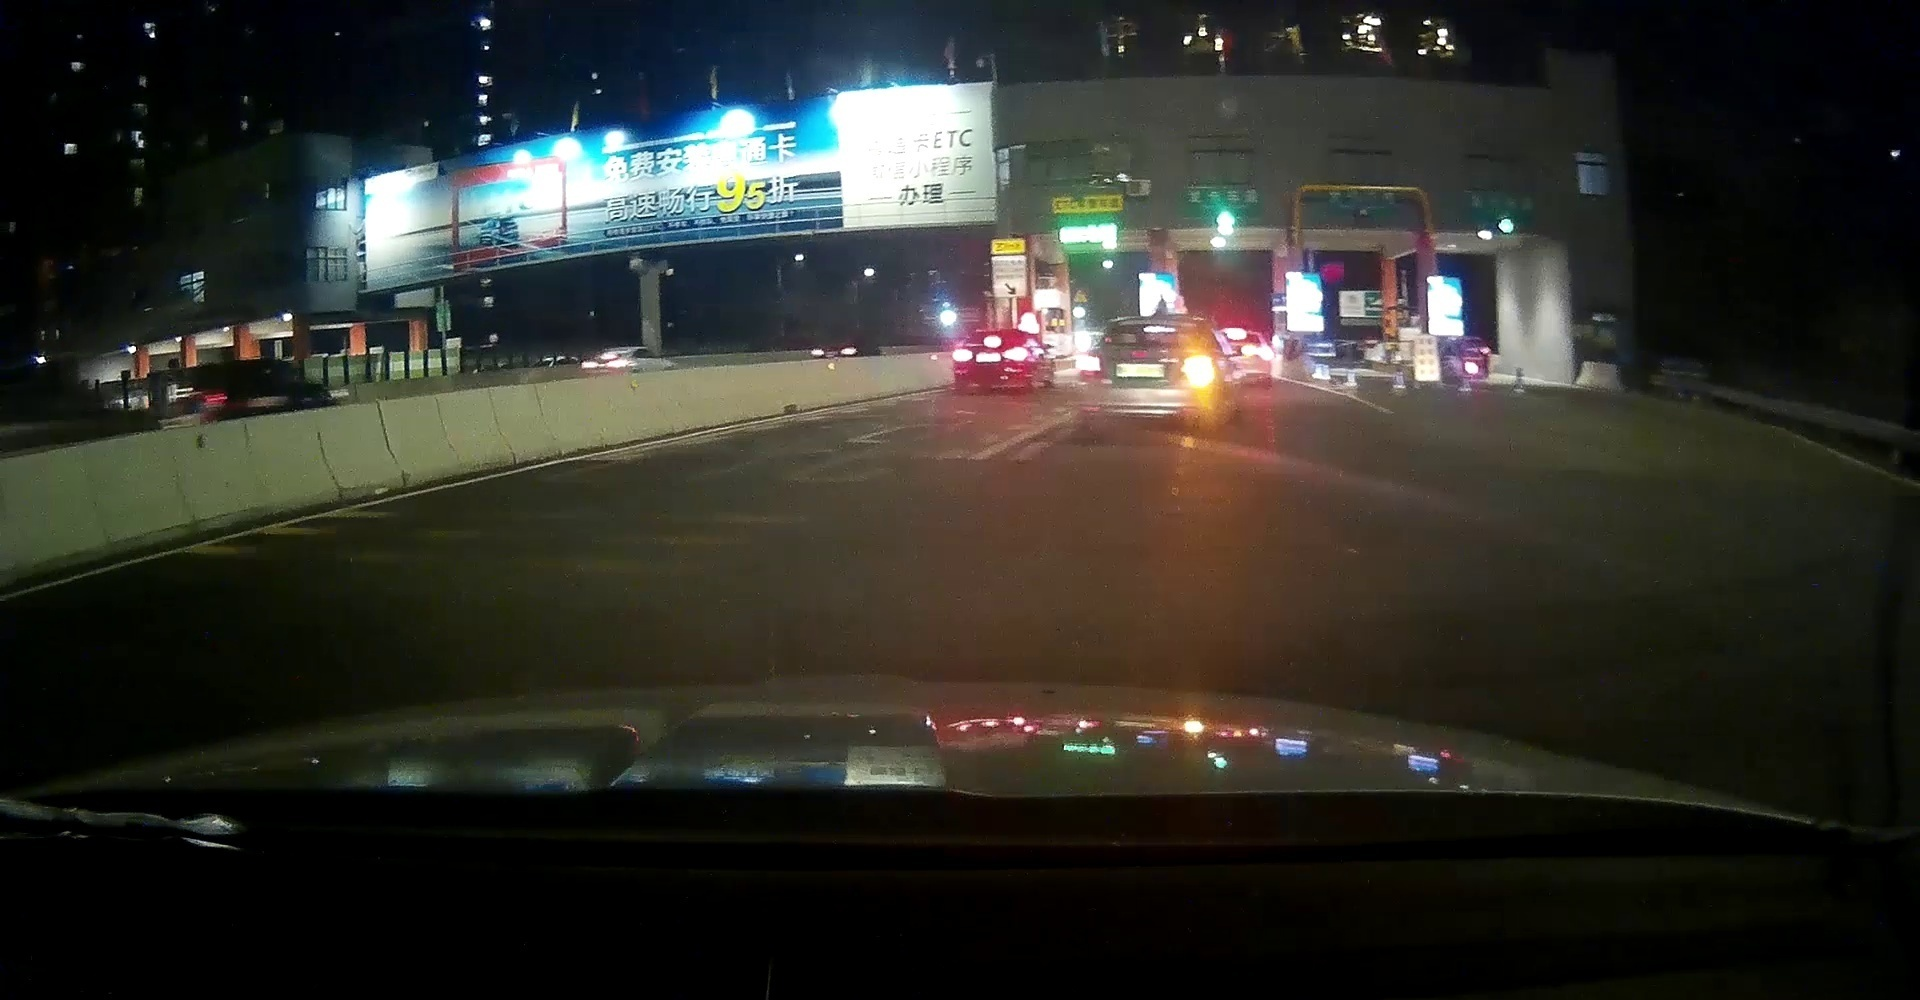L_light: (1079, 354, 1106, 379), (952, 352, 971, 360)
R_light: (1183, 355, 1211, 379), (1006, 349, 1026, 360)
T_light: (1142, 322, 1168, 329), (983, 341, 1002, 346)
night-brake: (952, 329, 1030, 393)
night-right: (1079, 315, 1215, 426)
